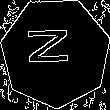N_E: (30, 32, 81, 73)
